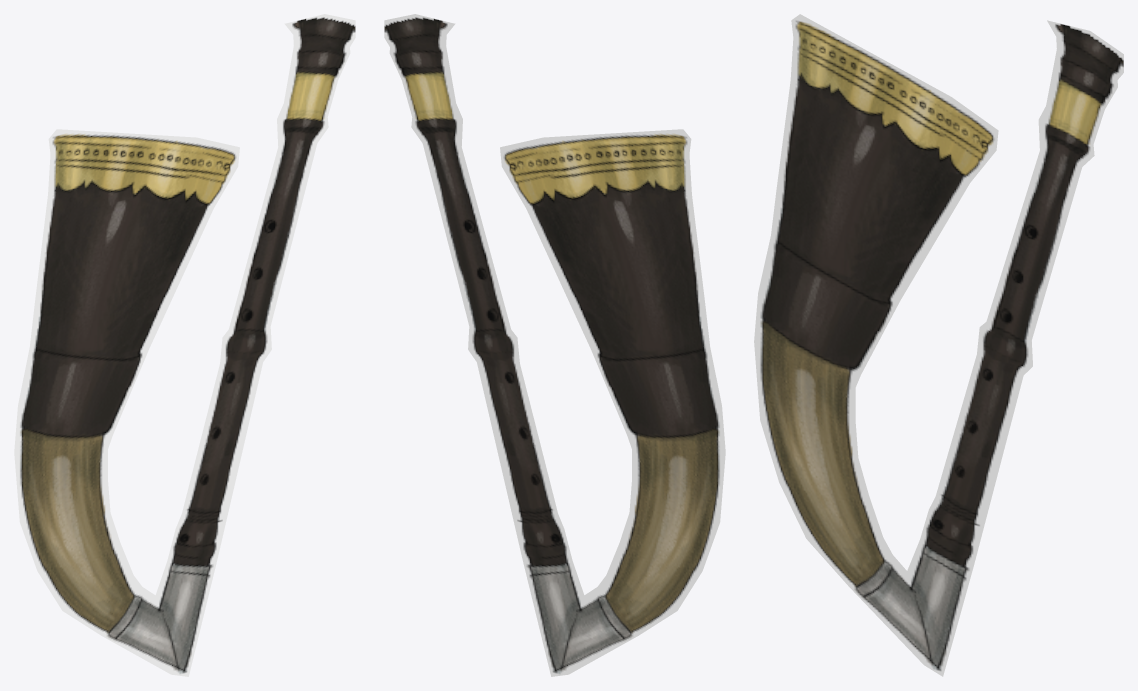
3 views of the same model, side by side, from view 1: azimuth 30°, elevation 25°; view 2: azimuth 150°, elevation 25°; view 3: azimuth 330°, elevation 25° (orthographic). The views are drawn at different scales.
Parts seen in each view (by area): view 1: Plane; view 2: Plane; view 3: Plane.
Boxes of the visible parts, left/top/right/bottom form: Plane: left=14, top=14, right=355, bottom=676; Plane: left=384, top=14, right=725, bottom=676; Plane: left=754, top=14, right=1123, bottom=676.
Bounding box in the file's own units: 2.21 × 3.89 × 0.
1 material, 1 textured.
